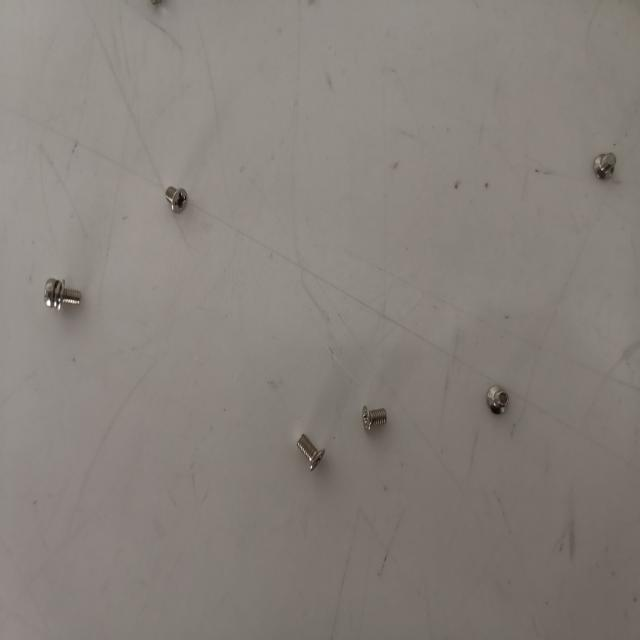Screw: (41, 274, 86, 314), (296, 431, 326, 473), (356, 403, 392, 436), (484, 380, 512, 418), (161, 183, 190, 217), (592, 150, 620, 184)
